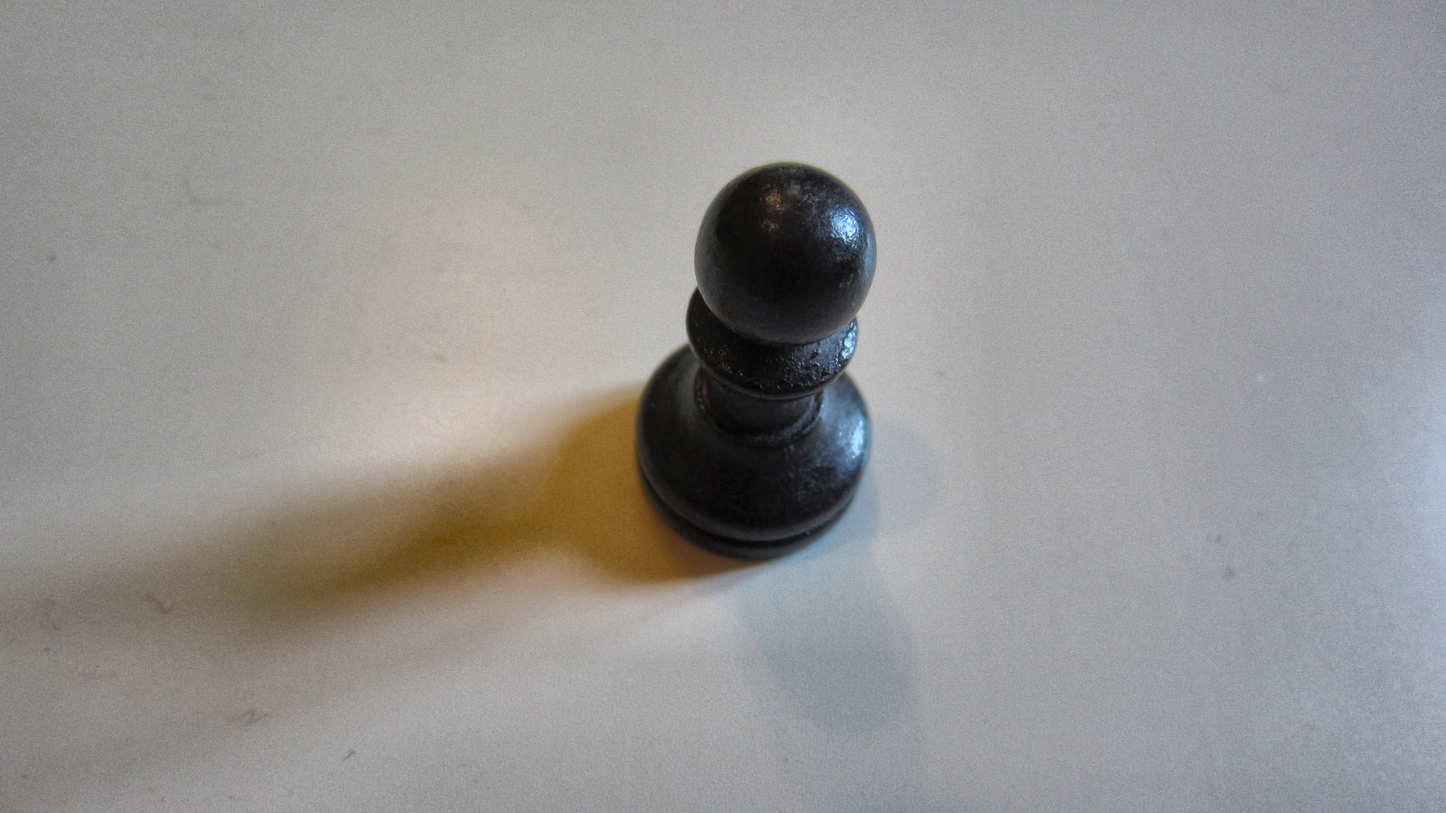black-pawn: (630, 154, 879, 566)
